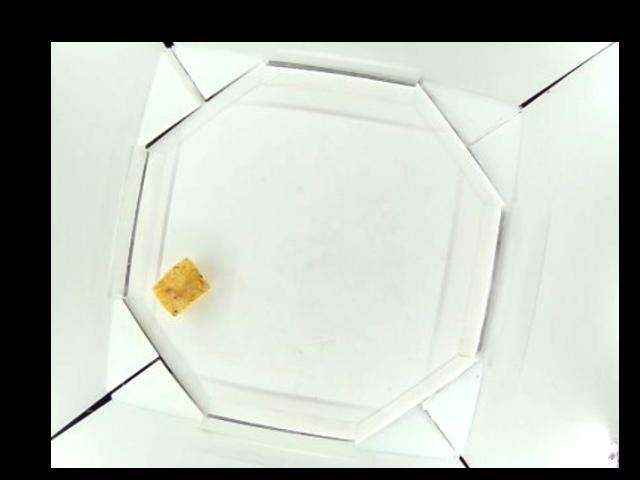Potato: (153, 256, 208, 317)
